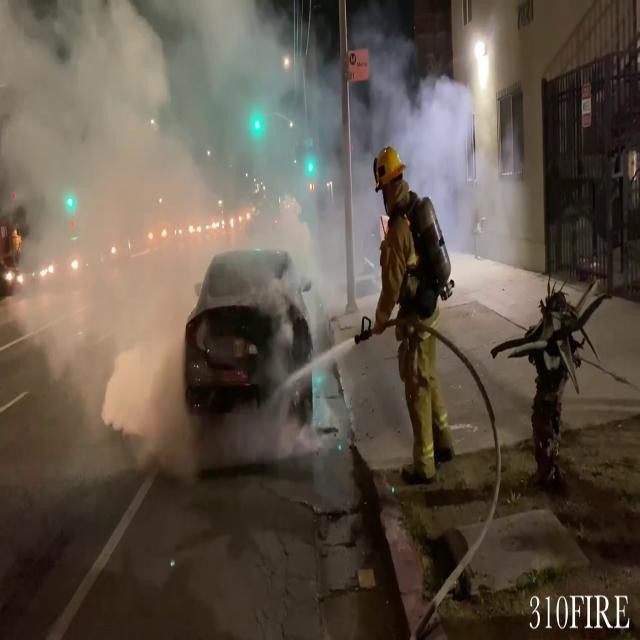Smoke: (0, 0, 318, 446), (310, 0, 480, 240)
